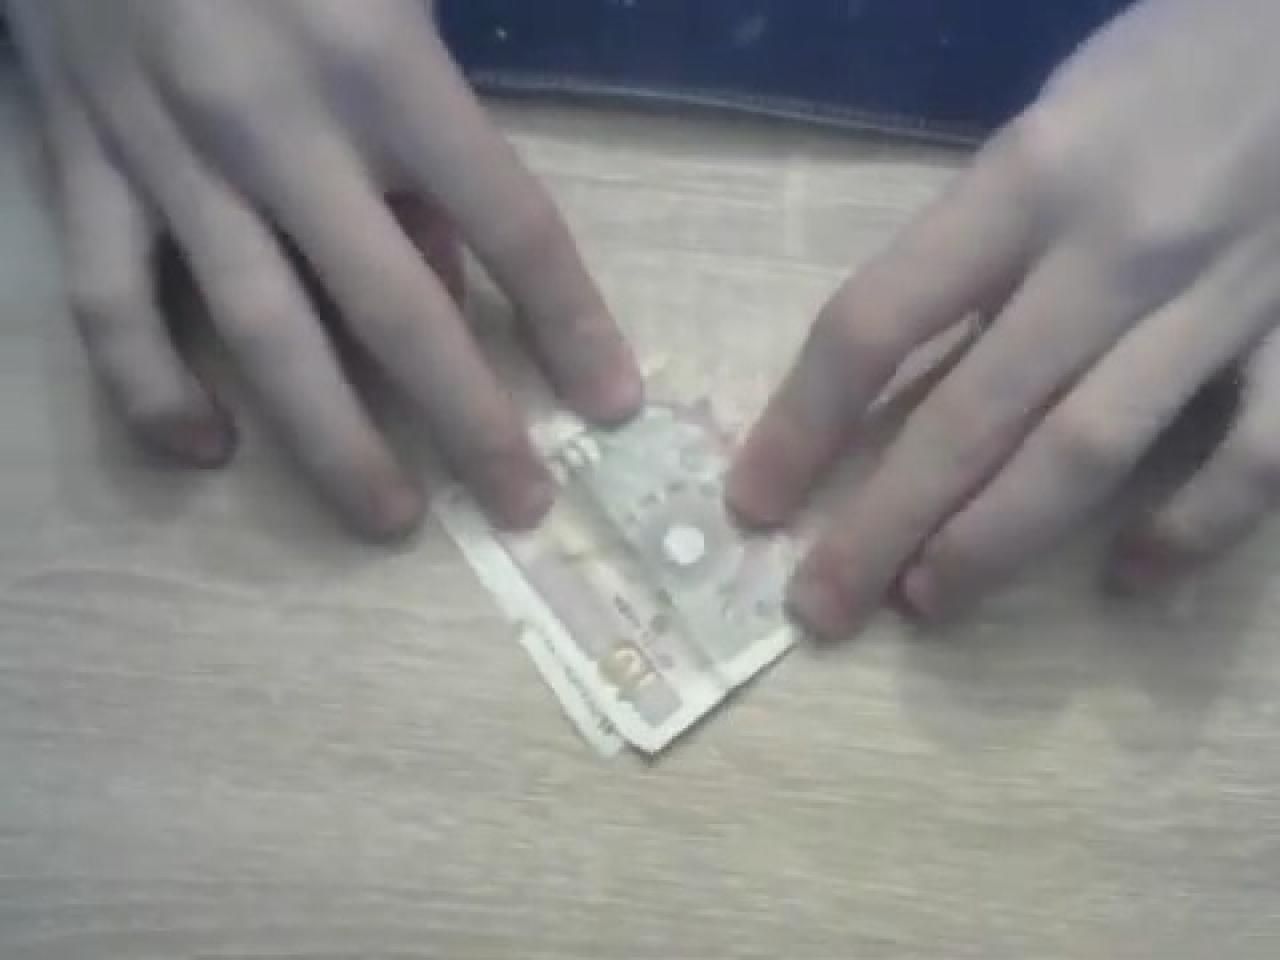10leva: (440, 402, 797, 765)
